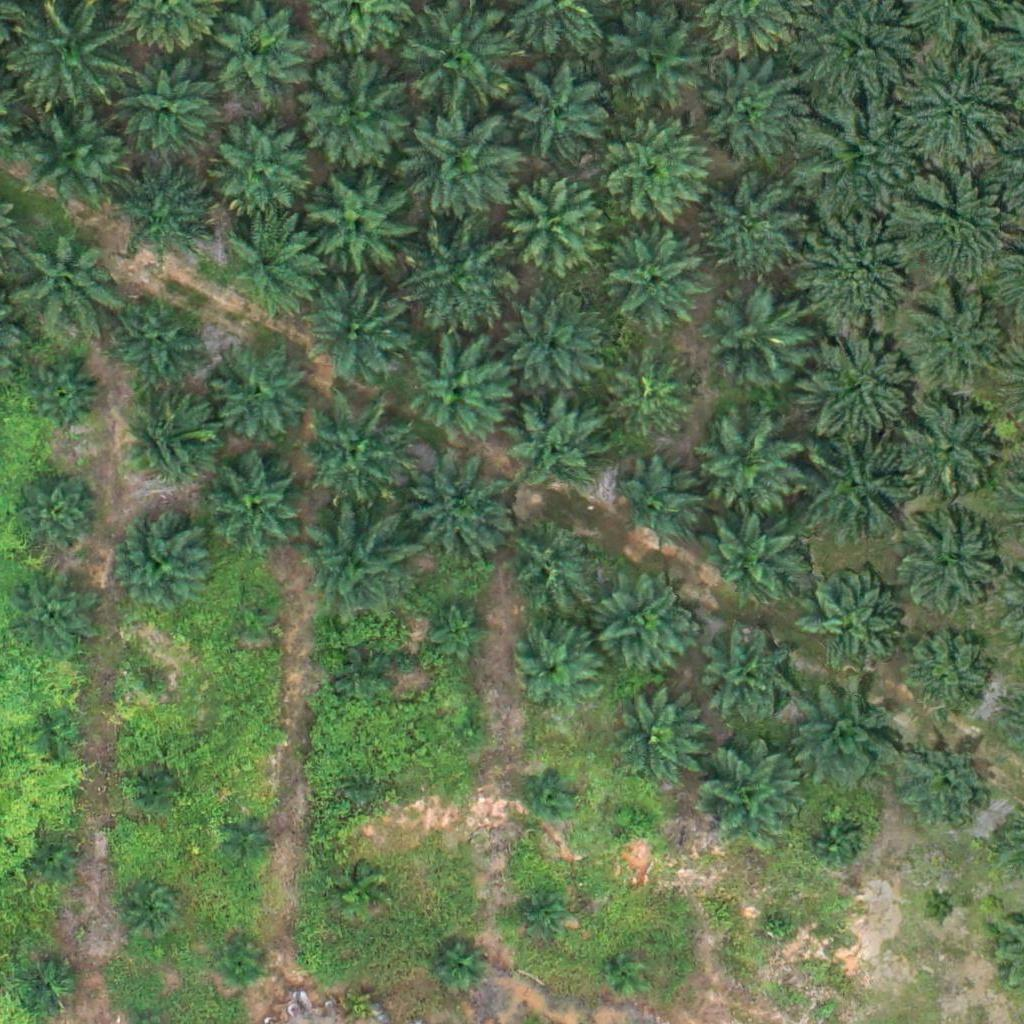Kelapa_Sawit: (399, 104, 524, 230), (684, 45, 809, 171), (801, 97, 926, 223), (798, 206, 923, 332), (889, 171, 1014, 297), (896, 49, 1021, 174), (793, 323, 918, 448), (10, 92, 123, 205), (300, 59, 413, 172), (402, 455, 515, 568), (400, 225, 513, 338), (802, 434, 915, 547), (793, 683, 906, 796), (402, 1, 514, 115), (599, 119, 711, 233), (301, 399, 413, 512), (297, 507, 409, 620), (120, 60, 220, 161), (210, 9, 310, 110), (700, 507, 800, 608), (595, 576, 695, 677), (506, 300, 606, 401), (506, 394, 606, 495), (499, 513, 599, 614), (407, 340, 507, 441), (311, 176, 411, 277), (304, 273, 404, 374), (205, 456, 305, 557), (212, 344, 312, 445), (221, 209, 321, 310), (208, 121, 308, 222), (112, 162, 212, 263), (112, 294, 212, 395), (116, 390, 216, 491), (14, 219, 114, 320), (801, 574, 901, 675), (898, 522, 998, 623), (896, 401, 996, 502), (901, 289, 1001, 390), (700, 748, 800, 849), (513, 57, 613, 157), (603, 11, 703, 111), (700, 183, 800, 283), (708, 291, 808, 391), (696, 417, 796, 517), (607, 233, 707, 333), (504, 178, 604, 278), (108, 510, 208, 610), (603, 688, 703, 788), (615, 461, 703, 549), (608, 353, 696, 441), (702, 631, 790, 719), (513, 628, 600, 717), (902, 739, 989, 828), (6, 567, 93, 655), (12, 466, 99, 554), (901, 632, 988, 720), (27, 361, 102, 437), (122, 876, 185, 939), (17, 955, 80, 1018), (429, 596, 491, 659), (333, 865, 383, 916), (430, 945, 480, 996), (808, 816, 858, 867), (126, 767, 176, 818), (226, 811, 276, 862), (229, 595, 279, 645), (125, 660, 175, 710), (340, 654, 390, 704), (27, 834, 77, 884), (514, 890, 564, 940), (527, 767, 577, 817), (617, 802, 655, 840), (608, 953, 646, 991), (760, 909, 798, 947), (922, 890, 960, 928), (223, 942, 261, 979), (346, 769, 383, 807), (451, 714, 488, 752), (33, 720, 70, 757)
